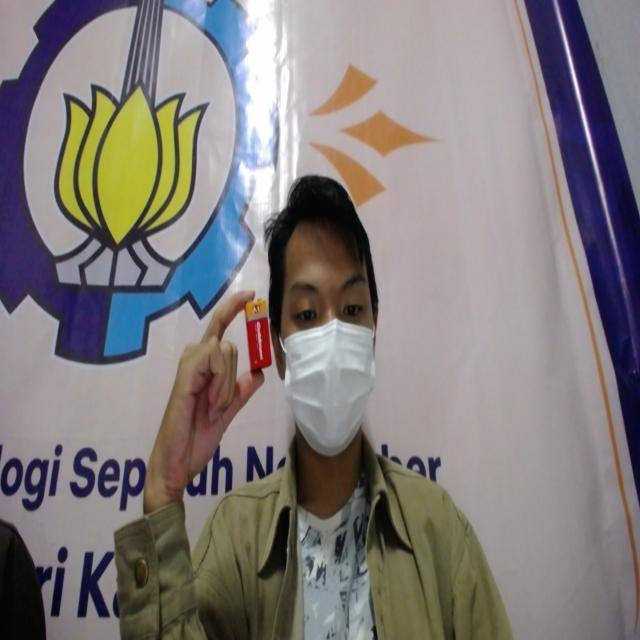Hazard: (243, 298, 274, 373)
